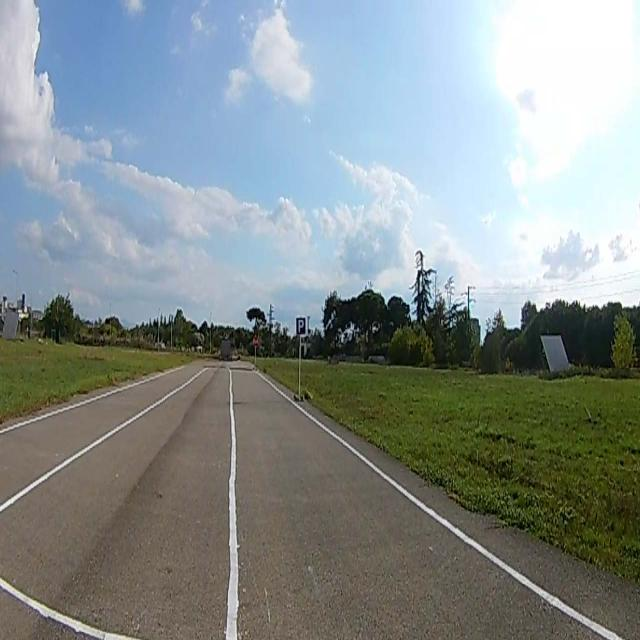park: (296, 318, 306, 334)
